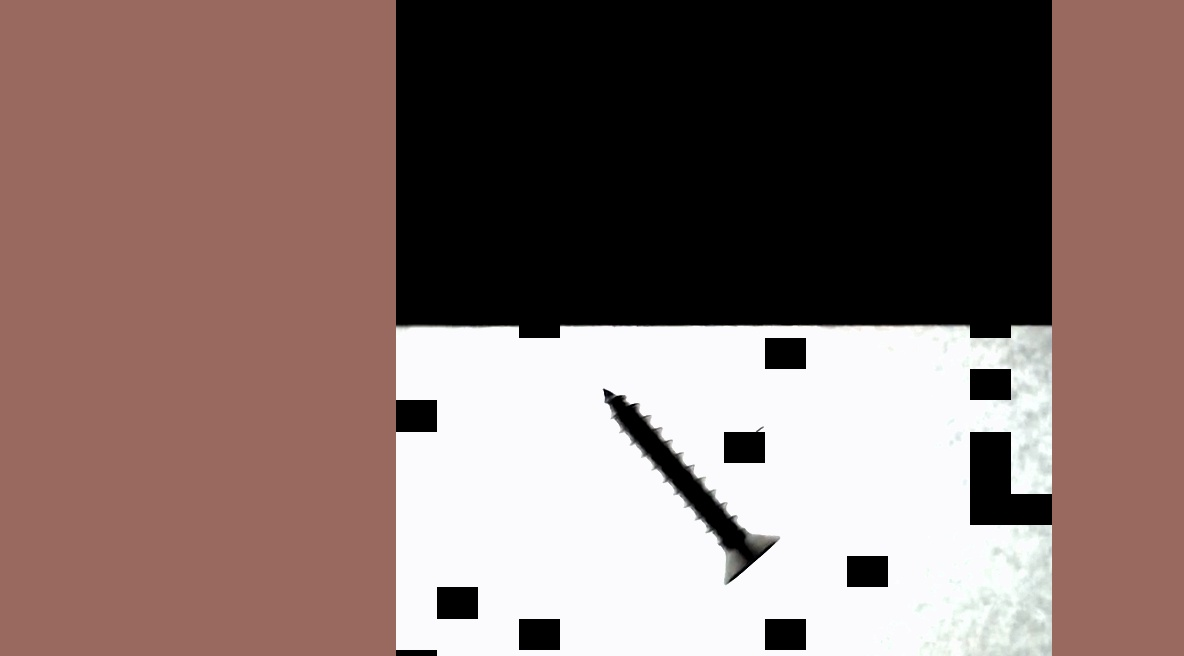S001: (579, 371, 803, 611)
